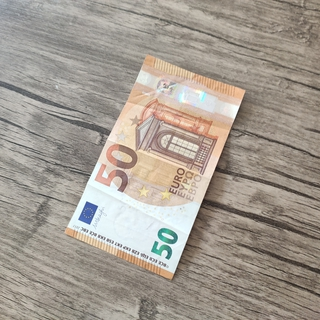50EUROFront: (62, 53, 247, 282)
